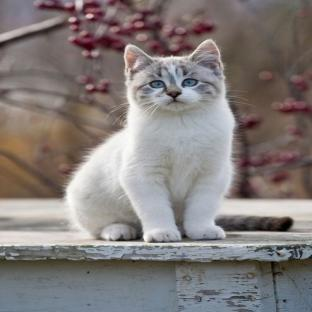Animal: (66, 39, 234, 242)
